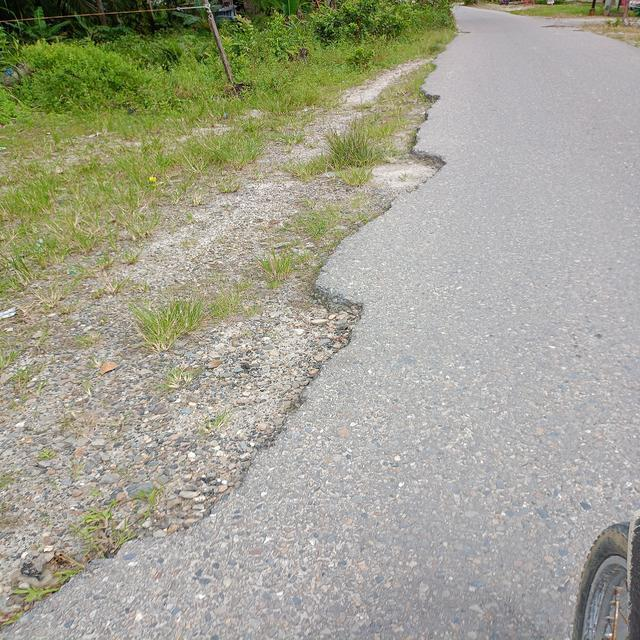Pinggir: (0, 67, 464, 639)
